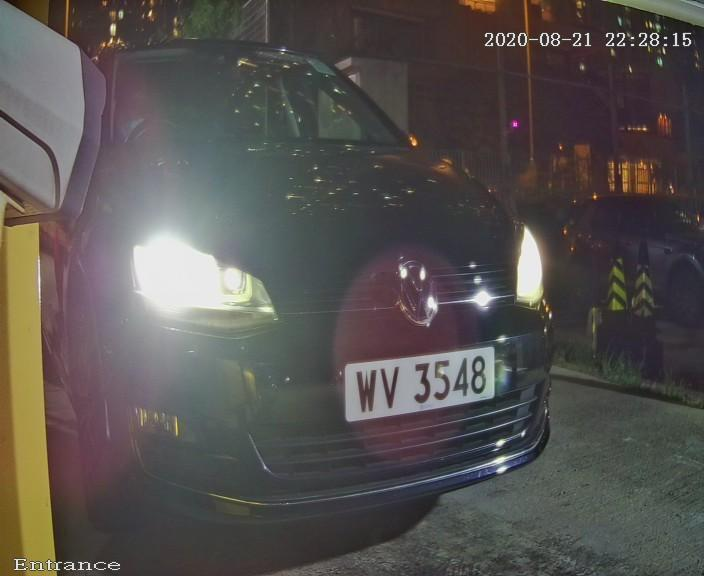Car: (16, 8, 604, 543)
License Plate: (314, 320, 522, 438)
